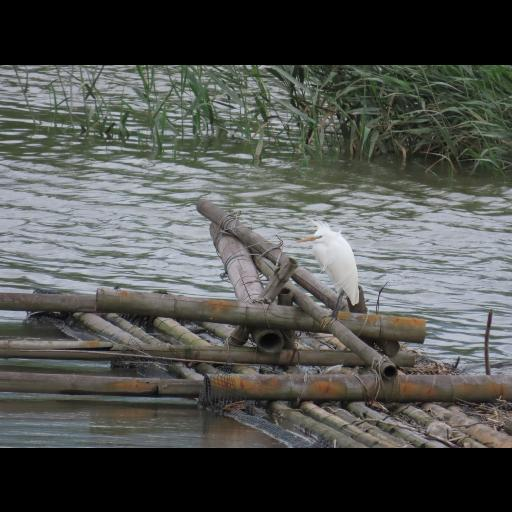chinese_egret: (294, 215, 360, 327)
